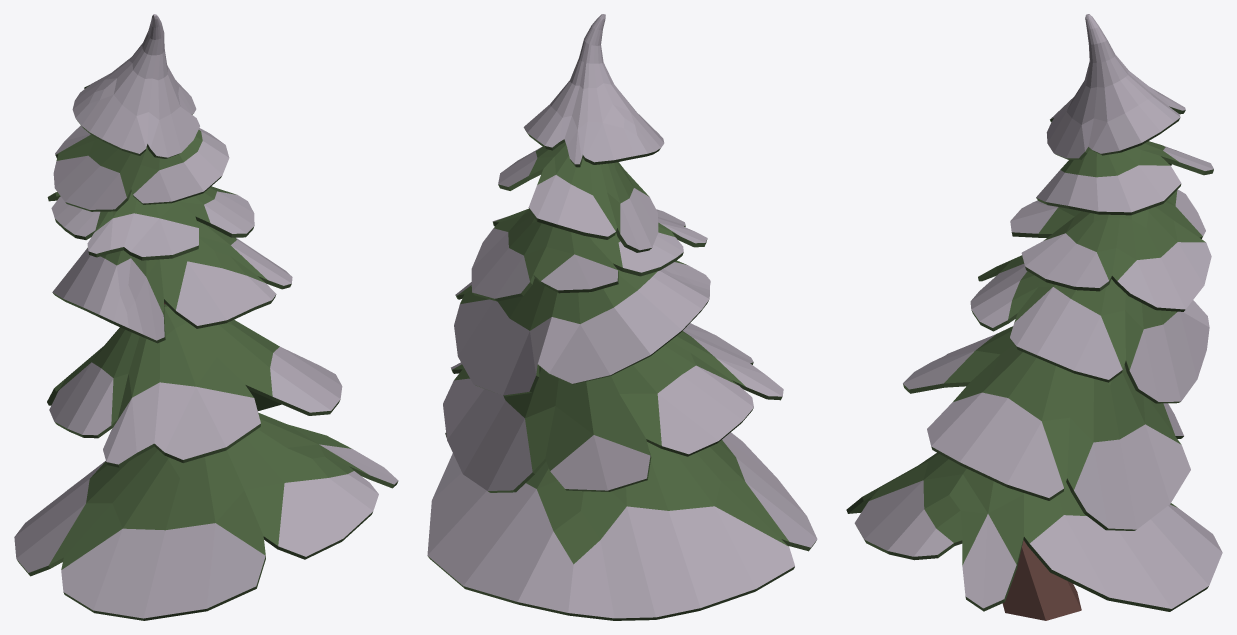
The model's file is PineTree_Snow_3.glb.
3 views of the same model, side by side, from view 1: azimuth 30°, elevation 25°; view 2: azimuth 150°, elevation 25°; view 3: azimuth 270°, elevation 25° (orthographic). The views are drawn at different scales.
Parts seen in each view (by area): view 1: PineTree_Snow_3_Cylinder.078; view 2: PineTree_Snow_3_Cylinder.078; view 3: PineTree_Snow_3_Cylinder.078.
Boxes of the visible parts, box(x1,y1,x2,y2) form: PineTree_Snow_3_Cylinder.078: box(14, 14, 398, 620); PineTree_Snow_3_Cylinder.078: box(427, 14, 817, 620); PineTree_Snow_3_Cylinder.078: box(846, 14, 1222, 620).
Bounding box in the file's own units: 2.16 × 3.3 × 1.95.
